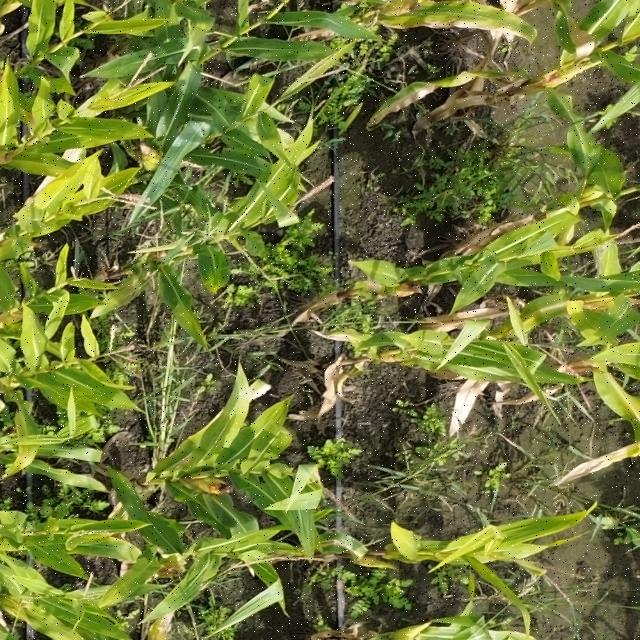northern-leaf-blight: (358, 0, 550, 56), (363, 67, 513, 119)
southern-leaf-blight: (132, 268, 203, 323)
